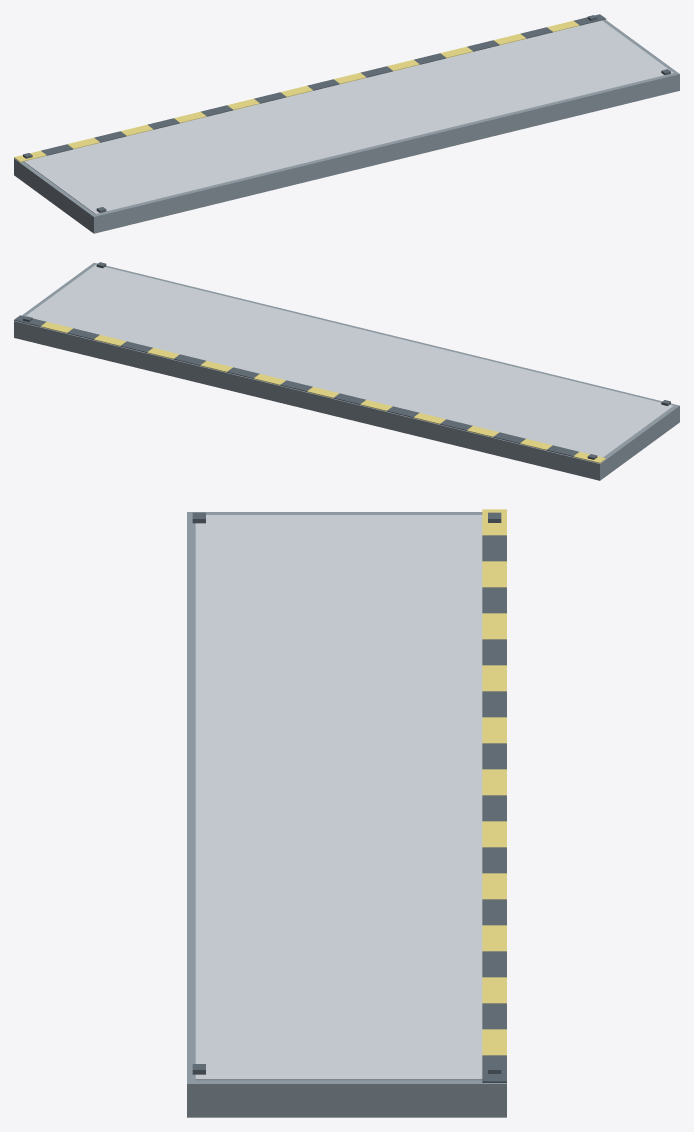
File: pasarela.glb
3 views of the same model, one above another, from view 1: azimuth 30°, elevation 25°; view 2: azimuth 150°, elevation 25°; view 3: azimuth 270°, elevation 25° (orthographic). The views are drawn at different scales.
Parts seen in each view (by area): view 1: pasarela; view 2: pasarela; view 3: pasarela.
Part boxes in pixels (x1,y1,x2,y2): pasarela: (14,14,679,233); pasarela: (14,262,679,480); pasarela: (187,509,506,1117).
Size of the model in its own units: 11 by 0.36 by 2.6.
